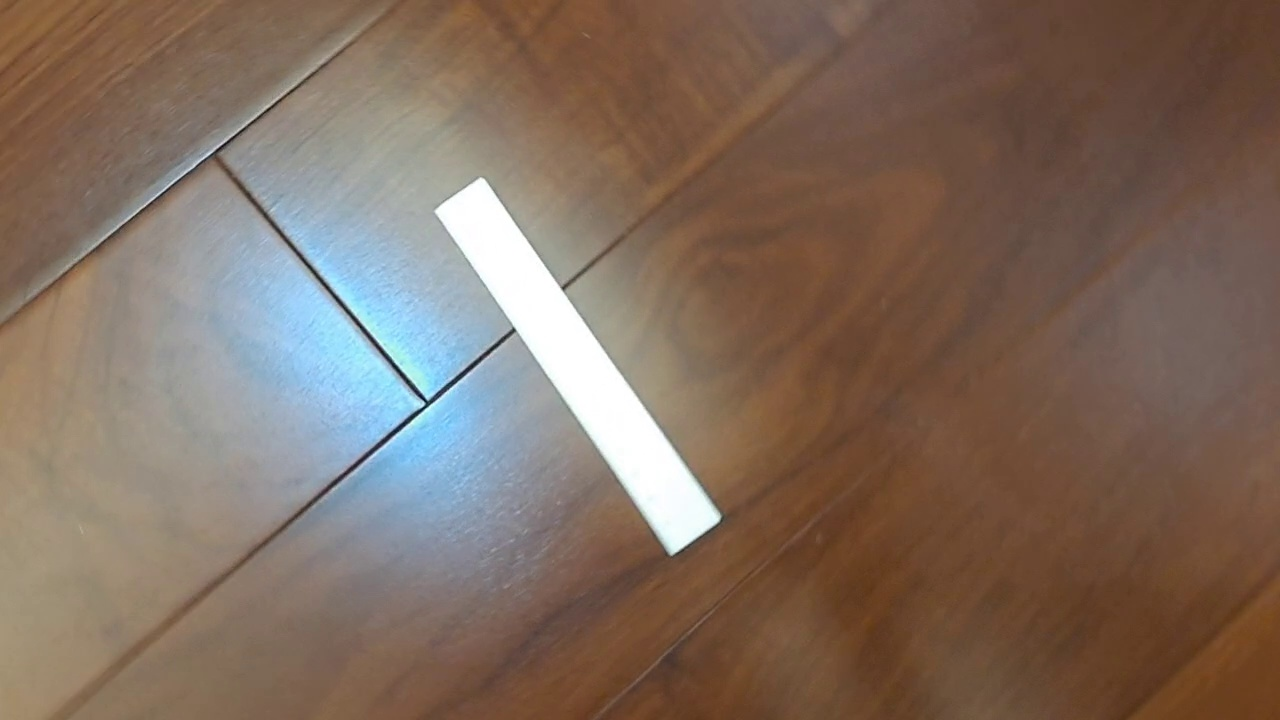ruler: (433, 174, 724, 558)
